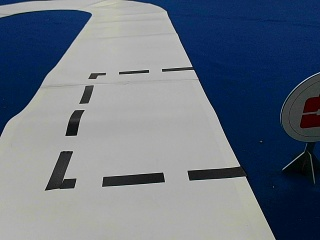company: (279, 74, 319, 140)
